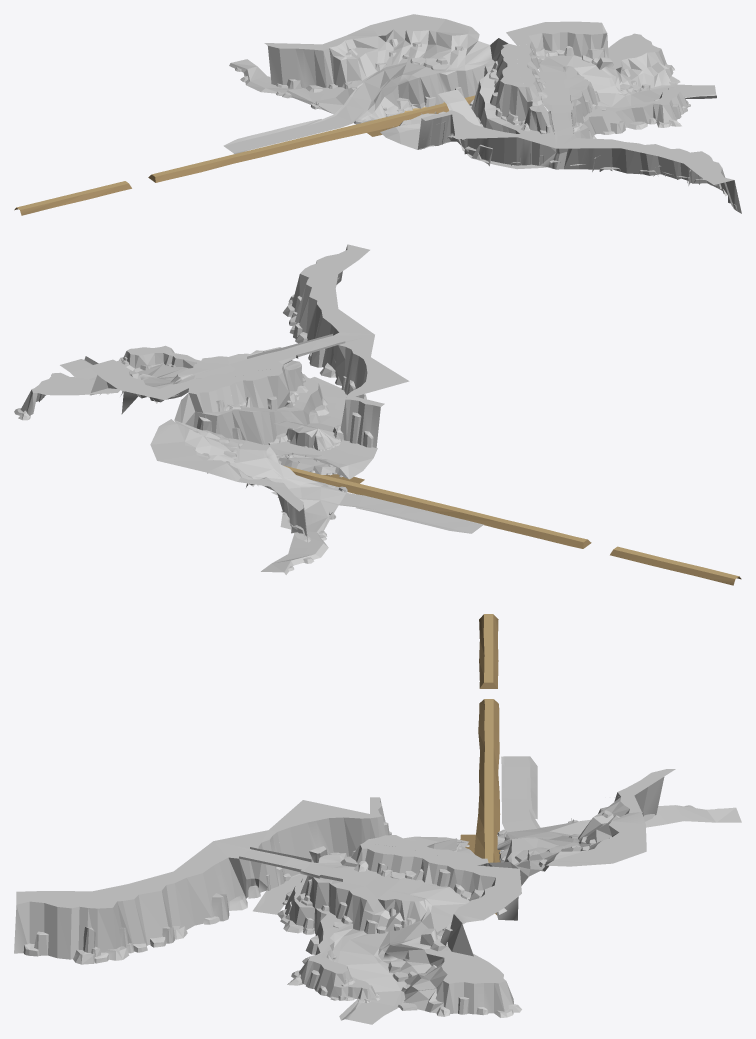
The model's file is Mountain2.fbx.
3 renders of one model, top to bottom at view 1: azimuth 30°, elevation 25°; view 2: azimuth 150°, elevation 25°; view 3: azimuth 270°, elevation 25°, orthographic. The views are drawn at different scales.
Visible parts, largest first — view 1: Mountain14_, Mountain6_, Mountain5_, TrackB, TrackA, rr_bed_edited, Mountain7_, Mountain4_, Mountain1_, Mountain11_, Mountain10_, Grass2_ (+4 smaller); view 2: Mountain6_, TrackB, Mountain14_, rr_bed_edited, Mountain7_, Mountain8_, Mountain10_, TrackA, Mountain5_, Grass1_, Grass2_, Mountain4_ (+4 smaller); view 3: Mountain6_, TrackA, Mountain5_, Mountain4_, Mountain7_, Mountain14_, rr_bed_edited, TrackB, Mountain2_, Mountain1_, Grass2_, Mountain3_ (+1 smaller).
Boxes of the visible parts, left/top/right/bottom form: Mountain14_: left=264, top=14, right=491, bottom=92; Mountain6_: left=548, top=132, right=741, bottom=213; Mountain5_: left=506, top=21, right=620, bottom=112; TrackB: left=223, top=62, right=547, bottom=169; TrackA: left=538, top=55, right=716, bottom=135; rr_bed_edited: left=14, top=95, right=475, bottom=215; Mountain7_: left=417, top=110, right=556, bottom=167; Mountain4_: left=608, top=33, right=680, bottom=92; Mountain1_: left=585, top=88, right=690, bottom=134; Mountain11_: left=354, top=73, right=444, bottom=124; Mountain10_: left=489, top=38, right=527, bottom=125; Grass2_: left=229, top=59, right=354, bottom=114; Mountain6_: left=283, top=244, right=374, bottom=385; TrackB: left=234, top=377, right=483, bottom=533; Mountain14_: left=150, top=419, right=311, bottom=542; rr_bed_edited: left=283, top=465, right=741, bottom=585; Mountain7_: left=333, top=335, right=409, bottom=447; Mountain8_: left=185, top=383, right=329, bottom=445; Mountain10_: left=174, top=361, right=300, bottom=423; TrackA: left=60, top=334, right=345, bottom=388; Mountain5_: left=89, top=358, right=287, bottom=414; Grass1_: left=265, top=440, right=377, bottom=479; Grass2_: left=261, top=498, right=338, bottom=574; Mountain4_: left=14, top=372, right=119, bottom=420; Mountain6_: left=14, top=841, right=260, bottom=964; TrackA: left=239, top=847, right=469, bottom=1024; Mountain5_: left=340, top=843, right=521, bottom=959; Mountain4_: left=382, top=938, right=521, bottom=1017; Mountain7_: left=213, top=797, right=391, bottom=892; Mountain14_: left=515, top=769, right=675, bottom=876; rr_bed_edited: left=460, top=614, right=500, bottom=914; TrackB: left=253, top=756, right=579, bottom=914; Mountain2_: left=296, top=855, right=426, bottom=933; Mountain1_: left=287, top=912, right=380, bottom=1002; Grass2_: left=541, top=805, right=741, bottom=836; Mountain3_: left=277, top=875, right=329, bottom=934.
Bounding box in the file's own units: 487 × 43.81 × 367.
